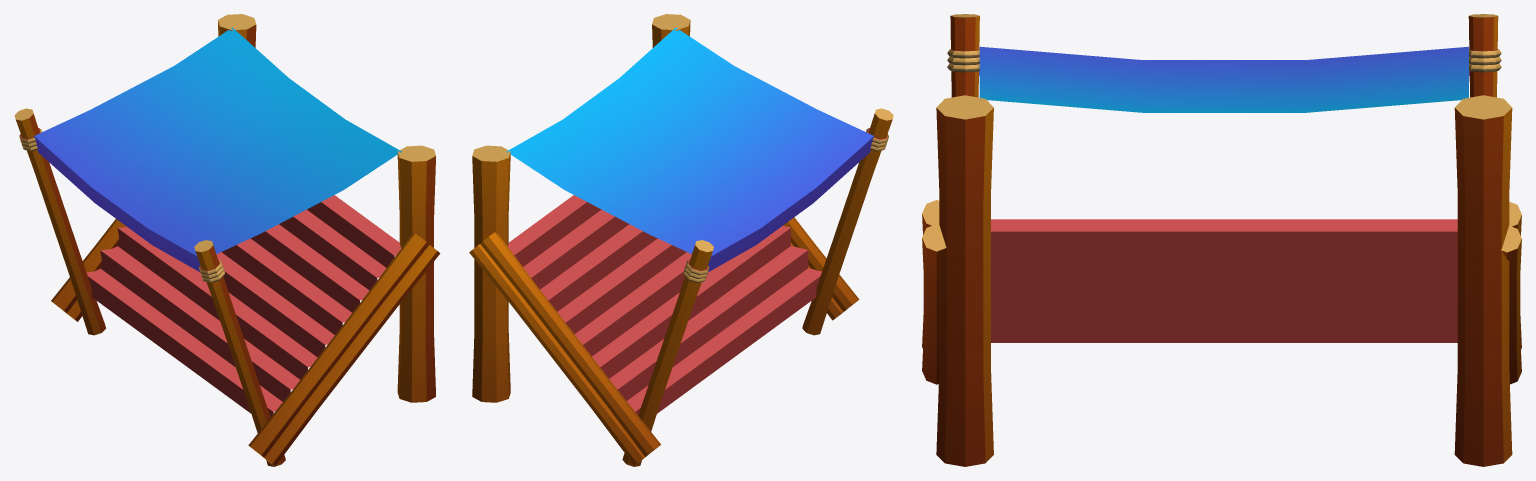
The model's file is Arena.fbx.
3 renders of one model, left to right at view 1: azimuth 30°, elevation 25°; view 2: azimuth 150°, elevation 25°; view 3: azimuth 270°, elevation 25°, orthographic. The views are drawn at different scales.
Parts seen in each view (by area): view 1: Arena; view 2: Arena; view 3: Arena.
Part boxes in pixels (x1,y1,x2,y2): Arena: (14, 14, 440, 466); Arena: (469, 14, 893, 466); Arena: (922, 14, 1521, 466).
Bounding box in the file's own units: 13.8 × 15.28 × 20.83.
